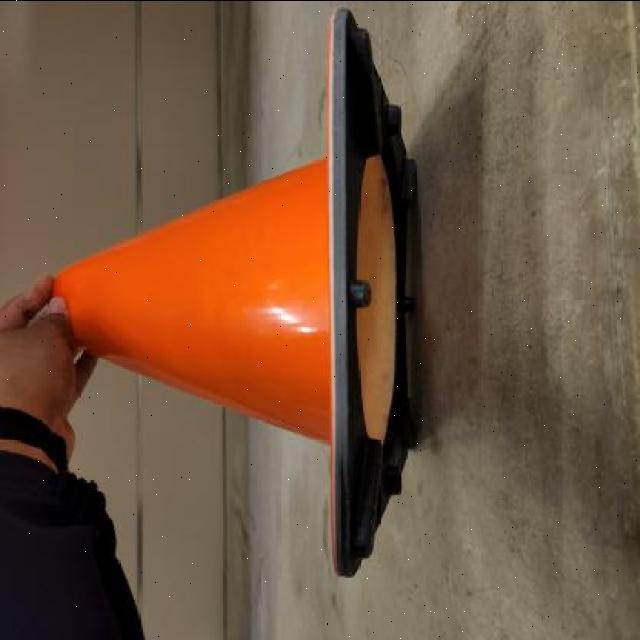traffic cone: (34, 5, 442, 597)
